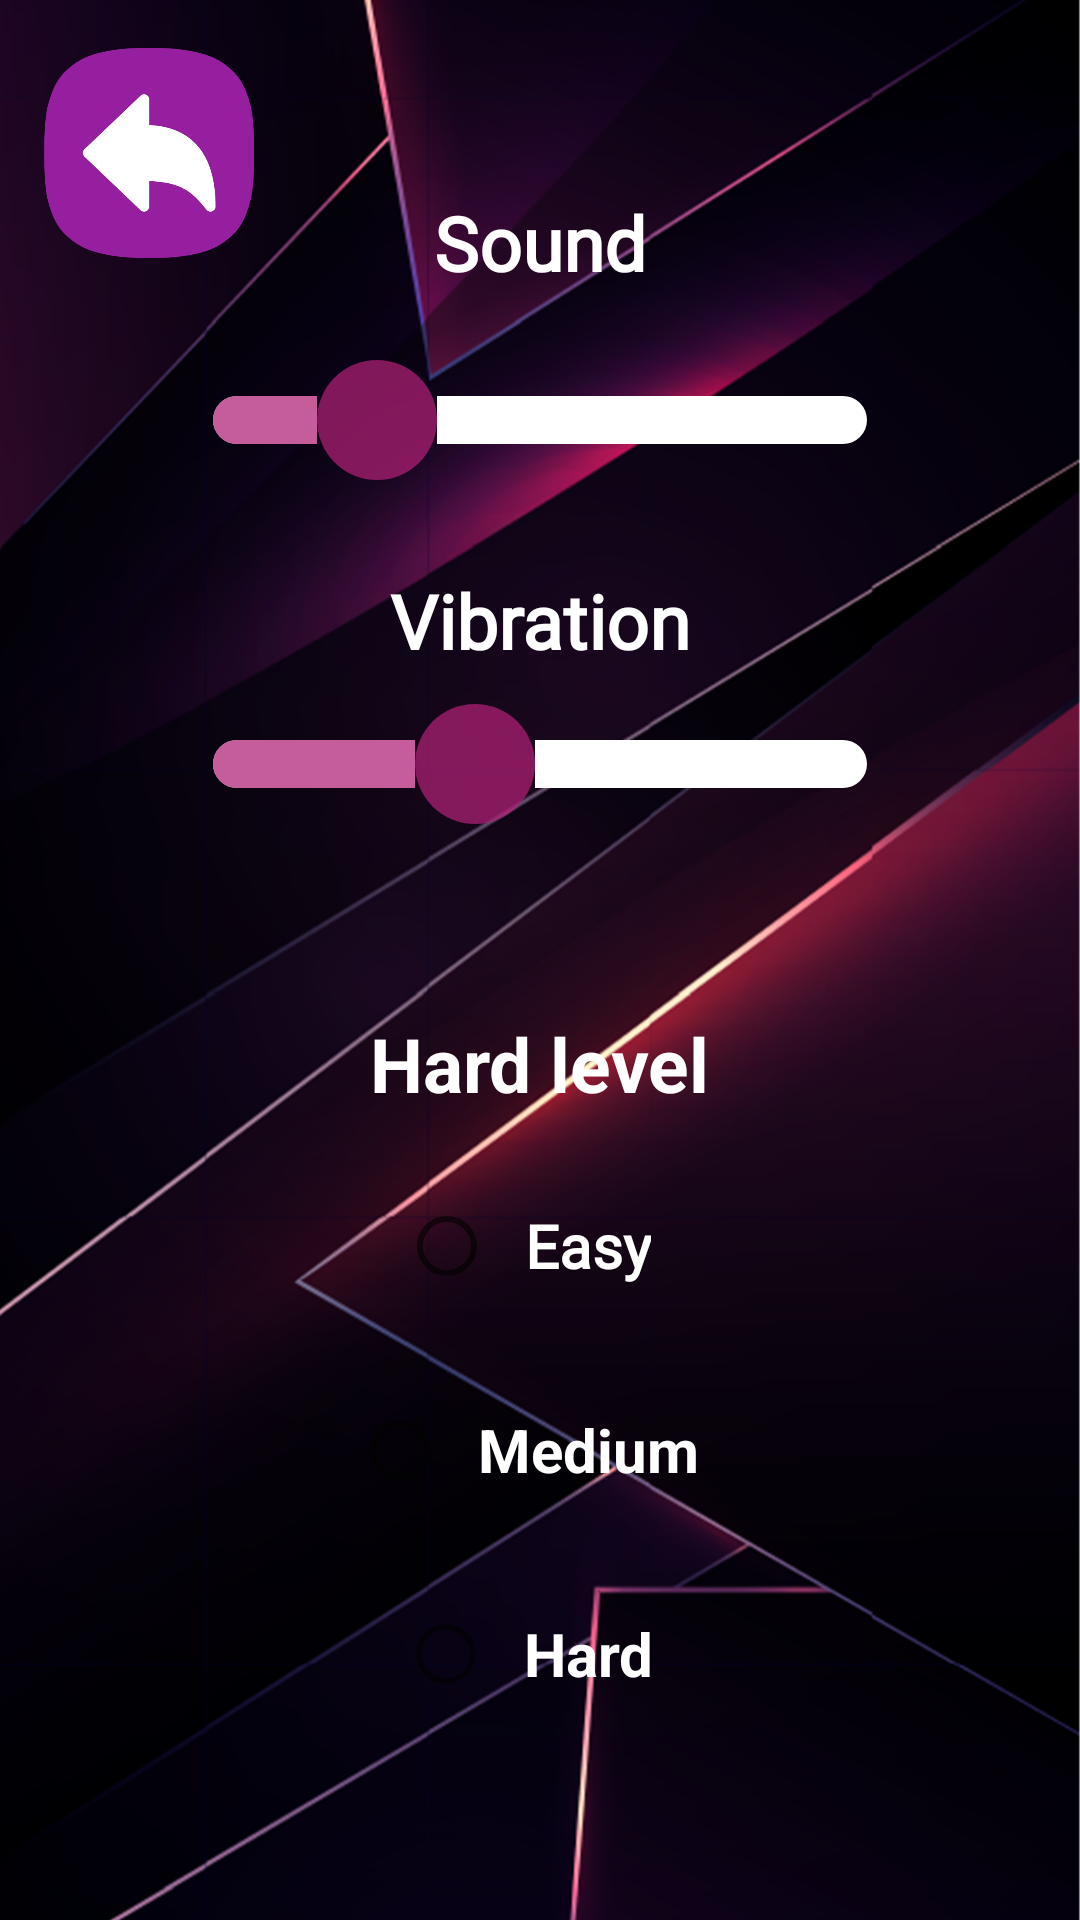

Named icons in this screenshot (1080*1920) and their bounding boxes, (x1, y1, x2, y2):
back slr: (44, 48, 254, 258)
